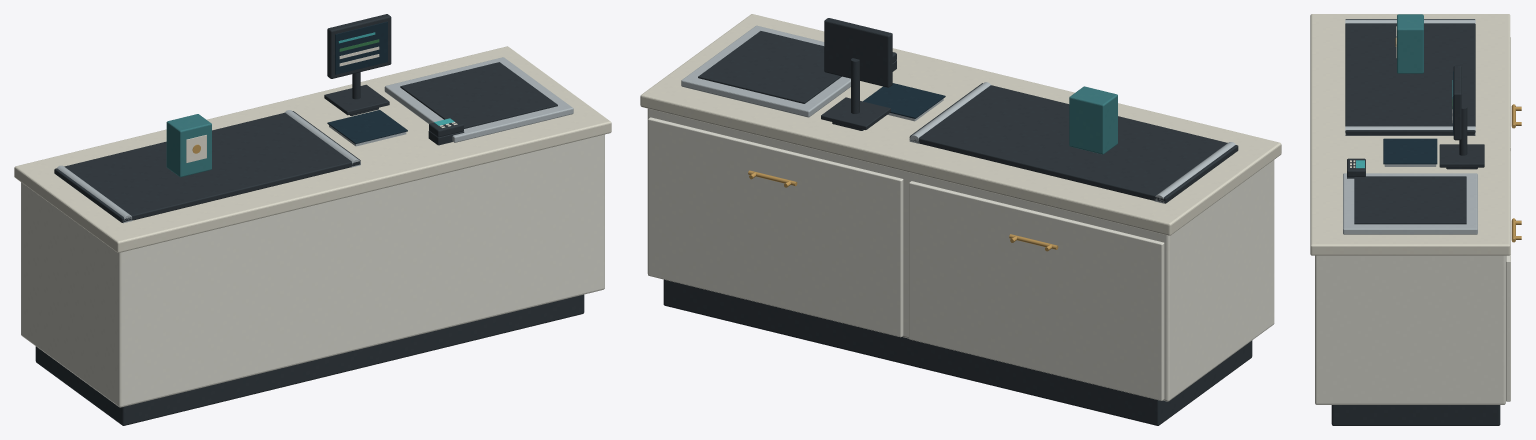
Rendered from checkout-counter-with-pos-original-retail-fixture.glb.
3 renders of one model, left to right at view 1: azimuth 30°, elevation 25°; view 2: azimuth 150°, elevation 25°; view 3: azimuth 270°, elevation 25°, orthographic. The views are drawn at different scales.
Visible parts, largest first — view 1: Counter body, Counter solid worktop, Checkout conveyor belt, Recessed counter plinth, Bagging platform inset, Bagging well rim, Original unbranded product carton, Original display surface, Original barcode scan glass, Display bezel, Monitor foot, Conveyor roller (+1 smaller); view 2: Workside door, Workside door.001, Counter solid worktop, Counter body, Checkout conveyor belt, Recessed counter plinth, Bagging platform inset, Display bezel, Bagging well rim, Original unbranded product carton, Original barcode scan glass, Monitor foot (+2 smaller); view 3: Counter body, Counter solid worktop, Checkout conveyor belt, Bagging platform inset, Recessed counter plinth, Bagging well rim, Original unbranded product carton, Original barcode scan glass, Monitor foot, Workside door.001, Display bezel, Conveyor roller.001 (+3 smaller).
Part boxes in pixels (bbox=[...]): Counter body: bbox=[21, 134, 604, 407]; Counter solid worktop: bbox=[14, 46, 611, 252]; Checkout conveyor belt: bbox=[54, 111, 360, 222]; Recessed counter plinth: bbox=[35, 294, 584, 425]; Bagging platform inset: bbox=[400, 62, 557, 128]; Bagging well rim: bbox=[384, 57, 573, 142]; Original unbranded product carton: bbox=[166, 114, 211, 177]; Original display surface: bbox=[335, 21, 387, 74]; Original barcode scan glass: bbox=[327, 110, 407, 144]; Display bezel: bbox=[327, 14, 391, 78]; Monitor foot: bbox=[324, 84, 389, 115]; Conveyor roller: bbox=[57, 165, 132, 223]; Workside door: bbox=[909, 181, 1164, 400]; Workside door.001: bbox=[648, 117, 903, 337]; Counter solid worktop: bbox=[640, 14, 1281, 235]; Counter body: bbox=[647, 108, 1274, 401]; Checkout conveyor belt: bbox=[909, 83, 1238, 203]; Recessed counter plinth: bbox=[663, 279, 1252, 425]; Bagging platform inset: bbox=[698, 31, 841, 103]; Display bezel: bbox=[824, 18, 892, 87]; Bagging well rim: bbox=[681, 25, 850, 117]; Original unbranded product carton: bbox=[1069, 86, 1117, 154]; Original barcode scan glass: bbox=[863, 83, 945, 118]; Monitor foot: bbox=[821, 97, 890, 129]; Counter body: bbox=[1315, 255, 1505, 404]; Counter solid worktop: bbox=[1310, 14, 1510, 255]; Checkout conveyor belt: bbox=[1345, 19, 1475, 135]; Bagging platform inset: bbox=[1354, 176, 1466, 224]; Recessed counter plinth: bbox=[1331, 405, 1500, 425]; Bagging well rim: bbox=[1343, 173, 1477, 234]; Original unbranded product carton: bbox=[1397, 14, 1423, 73]; Original barcode scan glass: bbox=[1383, 138, 1437, 164]; Monitor foot: bbox=[1439, 144, 1484, 167]; Workside door.001: bbox=[1506, 151, 1510, 401]; Display bezel: bbox=[1453, 65, 1461, 140]; Conveyor roller.001: bbox=[1345, 126, 1475, 135].
Bounding box in the file's own units: 2.44 × 1.34 × 0.9395.
Materials: 10 (10 with a texture image).
